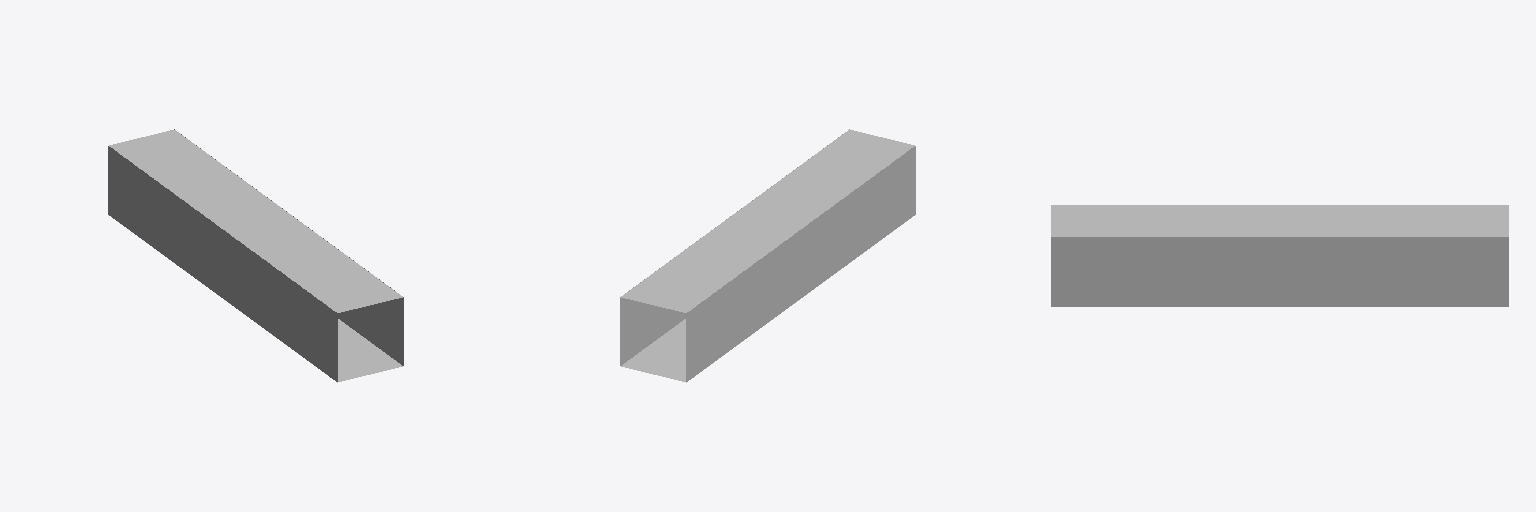
Rendered from gang.obj.
3 views of the same model, side by side, from view 1: azimuth 30°, elevation 25°; view 2: azimuth 150°, elevation 25°; view 3: azimuth 270°, elevation 25° (orthographic).
Visible parts, largest first — view 1: Plane_Plane.002; view 2: Plane_Plane.002; view 3: Plane_Plane.002.
Part boxes in pixels (x1,y1,x2,y2): Plane_Plane.002: (108,129,403,382); Plane_Plane.002: (620,129,915,382); Plane_Plane.002: (1051,205,1508,306).
Size of the model in its own units: 4.02 by 4.02 by 24.03.